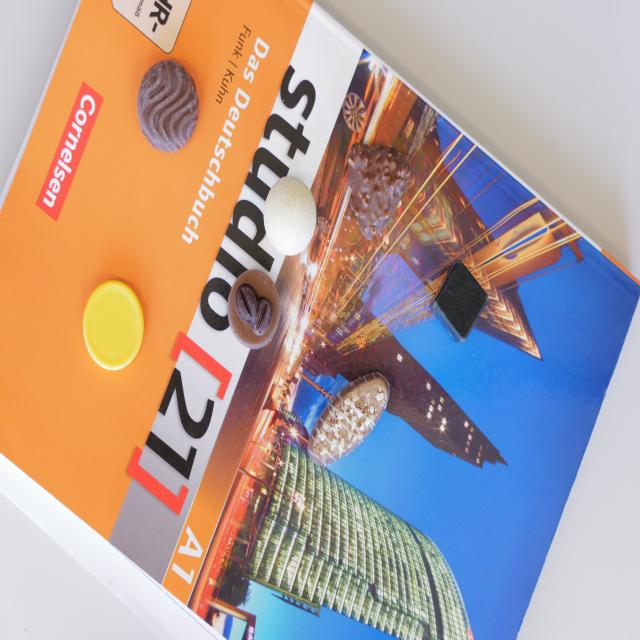Arabia: (229, 269, 281, 346)
Comtesse: (264, 171, 318, 255)
Noir_authentique: (139, 59, 198, 151)
